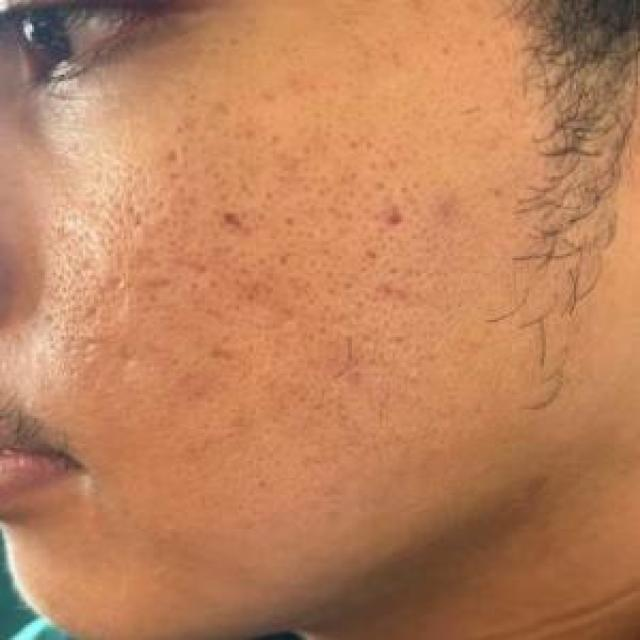Dry-Skin: (61, 105, 513, 444)
